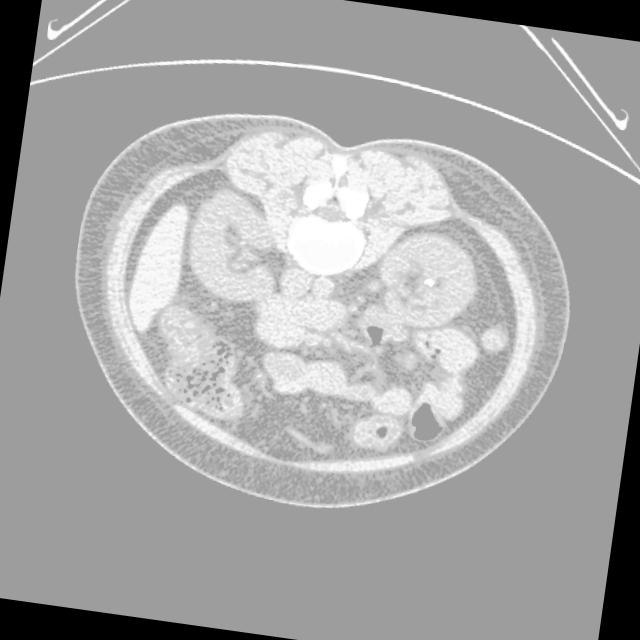STONE: (136, 266, 531, 504)
